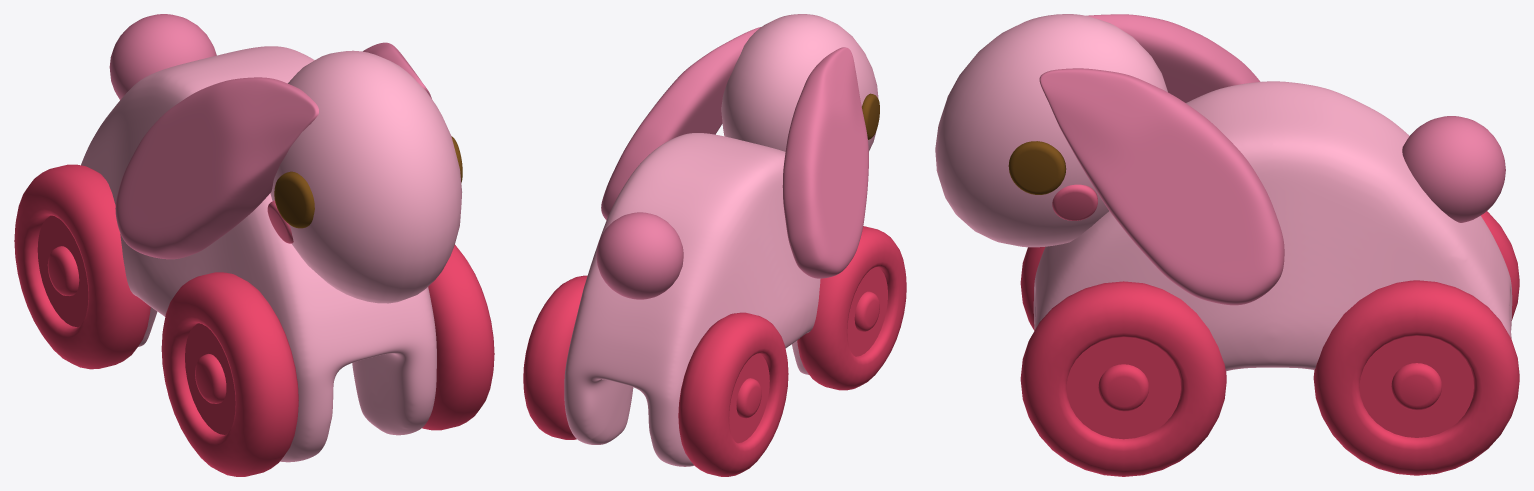
Rendered from conejo.fbx.
3 renders of one model, left to right at view 1: azimuth 30°, elevation 25°; view 2: azimuth 150°, elevation 25°; view 3: azimuth 270°, elevation 25°, orthographic. The views are drawn at different scales.
Parts seen in each view (by area): view 1: cuerpo, LLDD, LLTD, LLDL; view 2: cuerpo, LLTD, LLDD, LLTL; view 3: cuerpo, LLDL, LLTL, LLTD, LLDD.
Boxes of the visible parts, x1,y1,x2,y2 form: cuerpo: [81, 14, 462, 462]; LLDD: [161, 272, 298, 476]; LLTD: [14, 164, 150, 369]; LLDL: [422, 245, 494, 430]; cuerpo: [564, 14, 879, 466]; LLTD: [678, 312, 788, 476]; LLDD: [797, 226, 906, 390]; LLTL: [523, 275, 587, 439]; cuerpo: [935, 14, 1512, 371]; LLDL: [1020, 281, 1226, 476]; LLTL: [1313, 280, 1519, 475]; LLTD: [1481, 211, 1519, 320]; LLDD: [1020, 246, 1045, 330].
Bounding box in the file's own units: 64.61 × 86.35 × 113.
